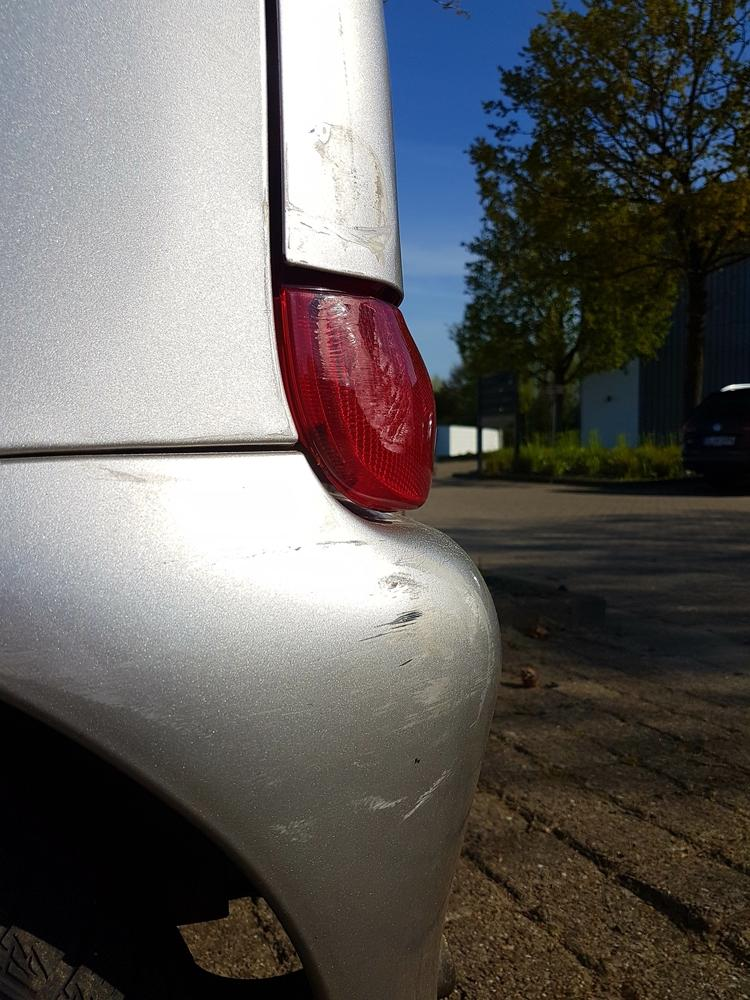scratch: (279, 532, 495, 842), (316, 294, 415, 452), (320, 122, 396, 262)
